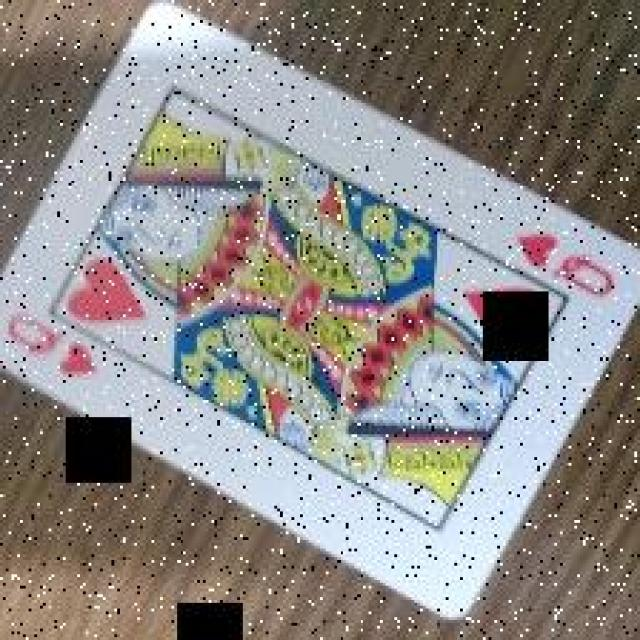Queen of hearts: (0, 5, 640, 617)
